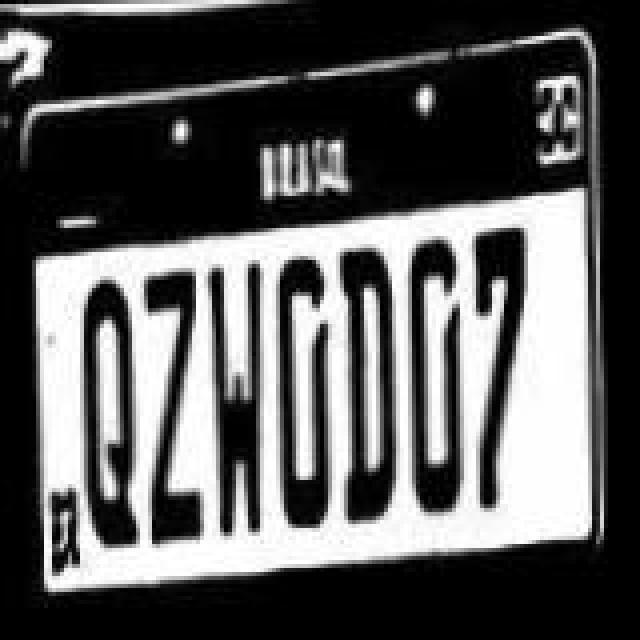7: (466, 216, 534, 516)
D: (338, 242, 410, 534), (404, 224, 472, 528), (272, 250, 340, 542)
Q: (78, 270, 150, 550)
W: (204, 258, 272, 550)
Z: (138, 258, 210, 550)
